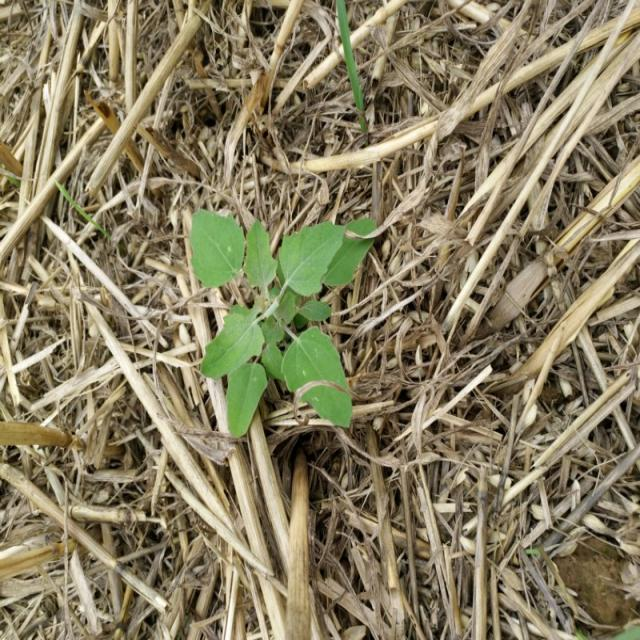ca: (192, 206, 372, 440)
